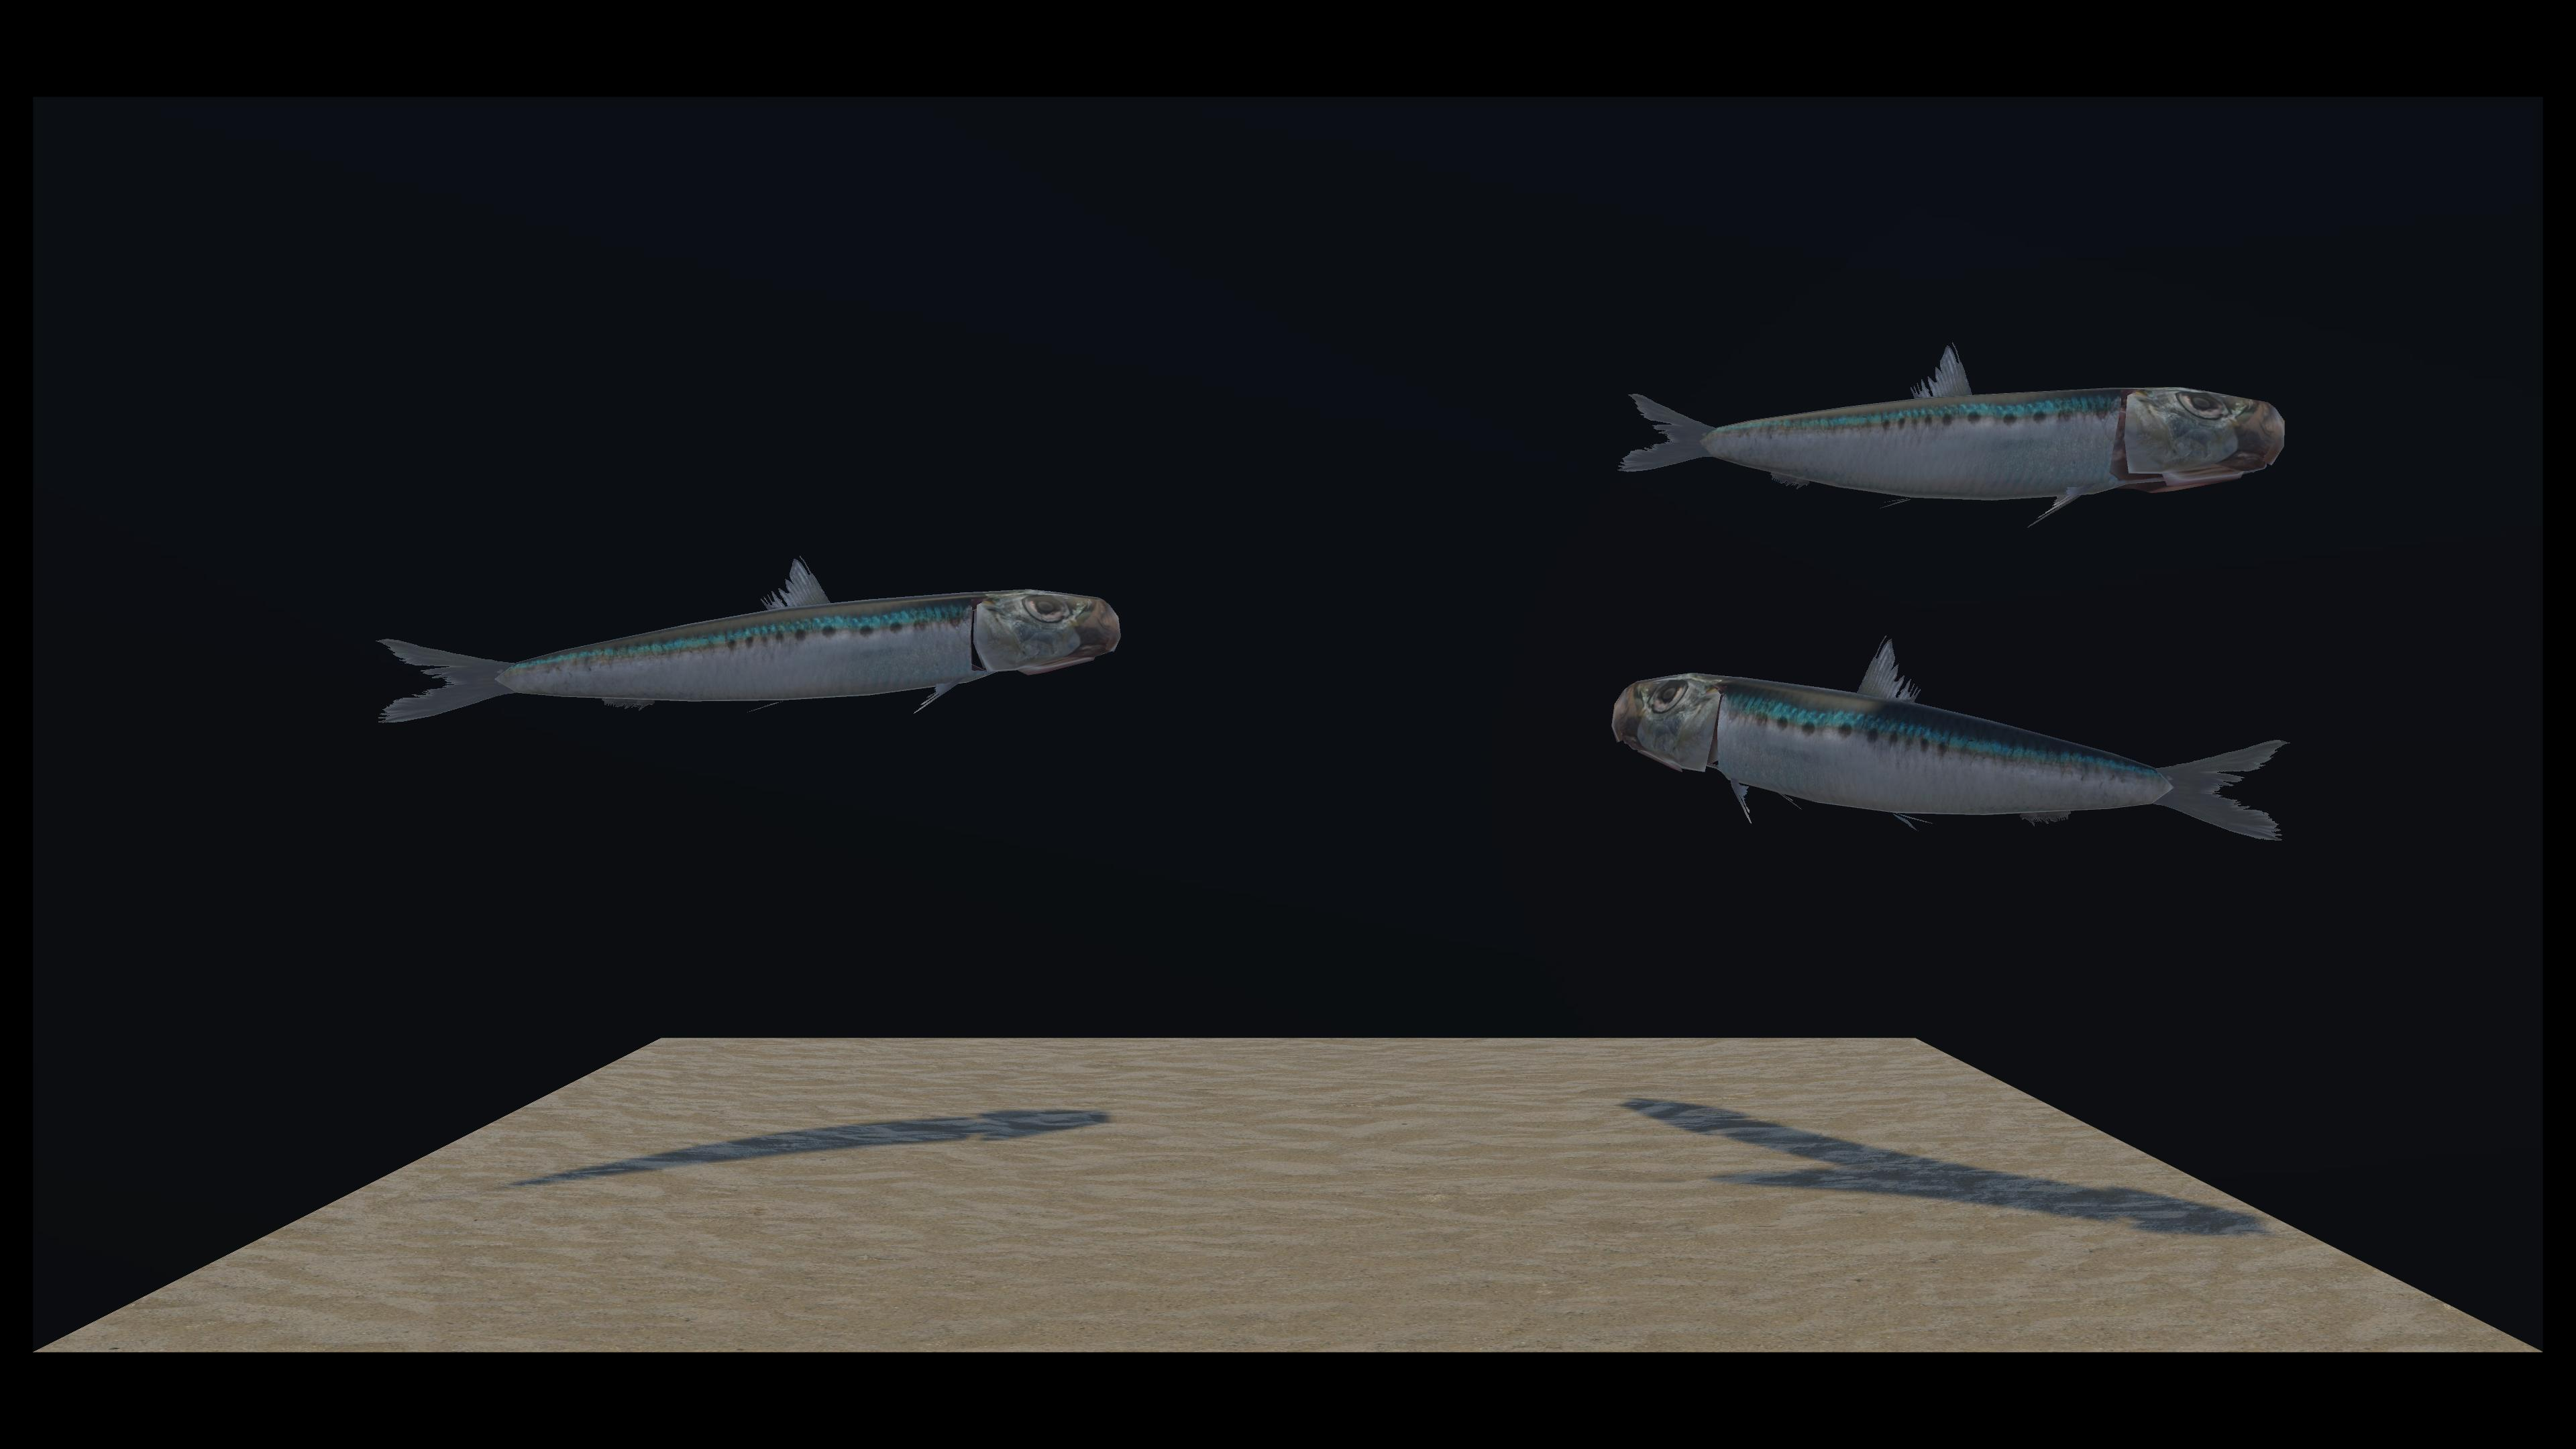Sardine_Front: (985, 513, 2277, 839), (395, 340, 1097, 722), (916, 345, 2258, 538)
